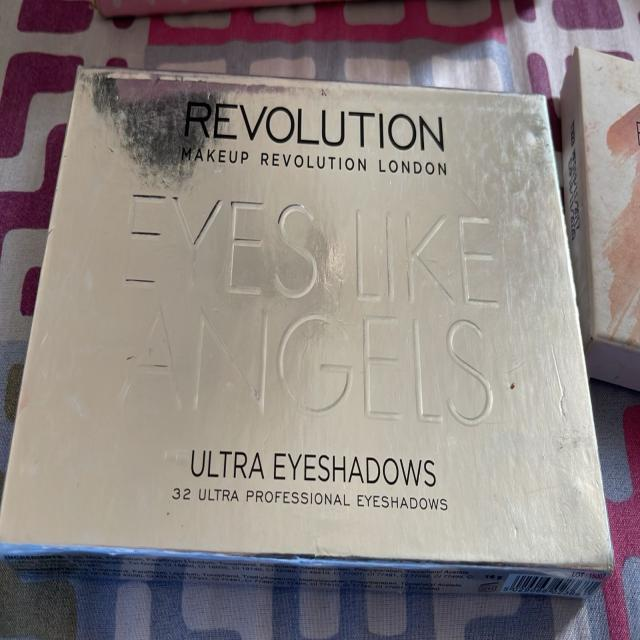eye shade: (0, 55, 611, 571)
